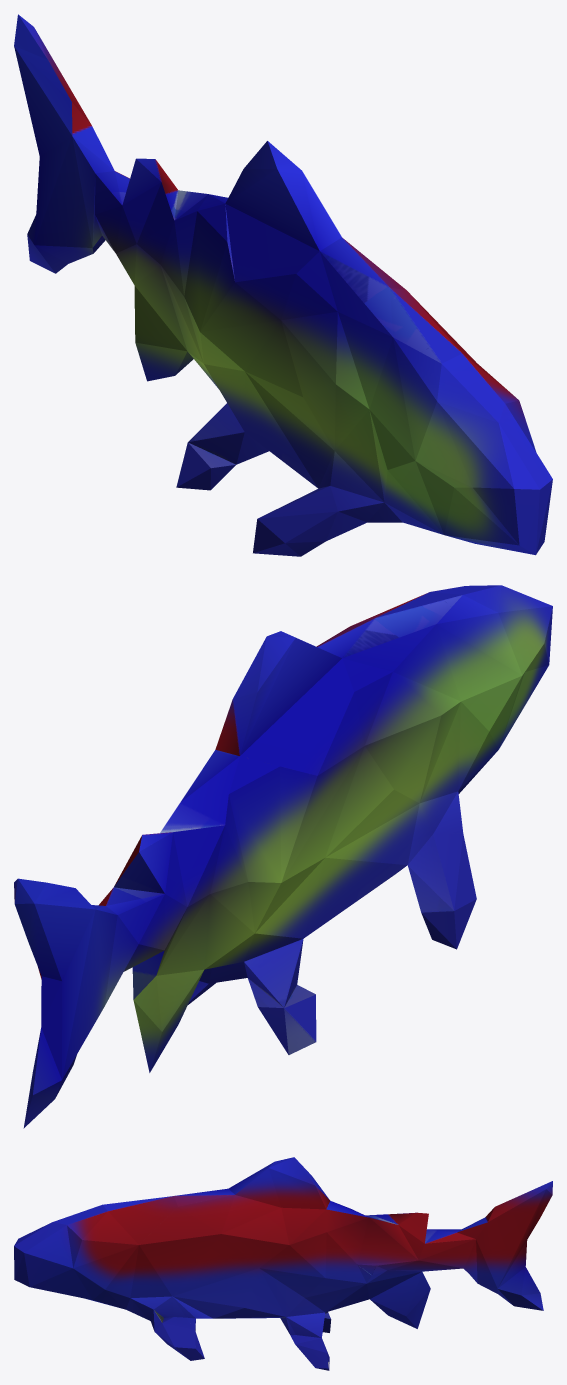
File: salmon.glb
The picture shows the model from 3 angles, top to bottom: view 1: azimuth 30°, elevation 25°; view 2: azimuth 150°, elevation 25°; view 3: azimuth 270°, elevation 25°; orthographic projection. The views are drawn at different scales.
Visible parts, largest first — view 1: Mesh_0; view 2: Mesh_0; view 3: Mesh_0.
Part boxes in pixels (x1=…): Mesh_0: x1=14, y1=14, x2=552, y2=556; Mesh_0: x1=14, y1=585, x2=552, y2=1128; Mesh_0: x1=14, y1=1157, x2=552, y2=1370.
Bounding box in the file's own units: 3.67 × 5.86 × 14.68.
1 material, 1 textured.
